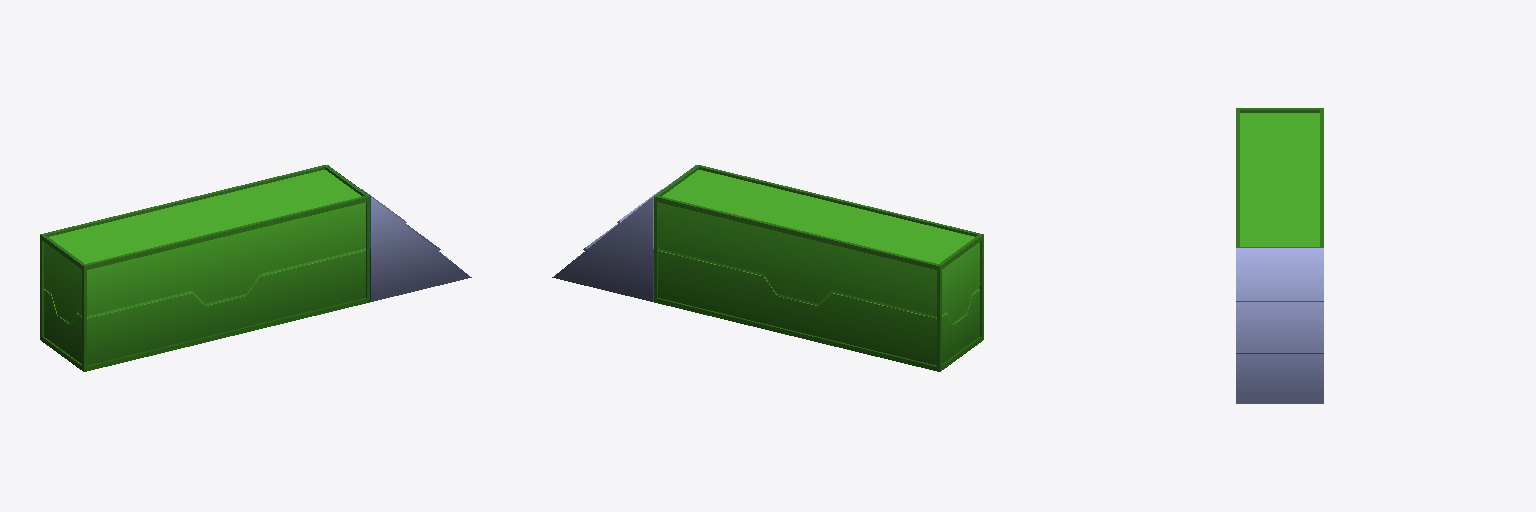
The picture shows the model from 3 angles: view 1: azimuth 30°, elevation 25°; view 2: azimuth 150°, elevation 25°; view 3: azimuth 270°, elevation 25°; orthographic projection.
Visible parts, largest first — view 1: Ramp; view 2: Ramp; view 3: Ramp.
Boxes of the visible parts, box(x1,y1,x2,y2) form: Ramp: box(40, 165, 471, 371); Ramp: box(552, 165, 983, 371); Ramp: box(1236, 108, 1323, 403).
Bounding box in the file's own units: 23.01 × 6 × 4.5.
Materials: 1 (1 with a texture image).